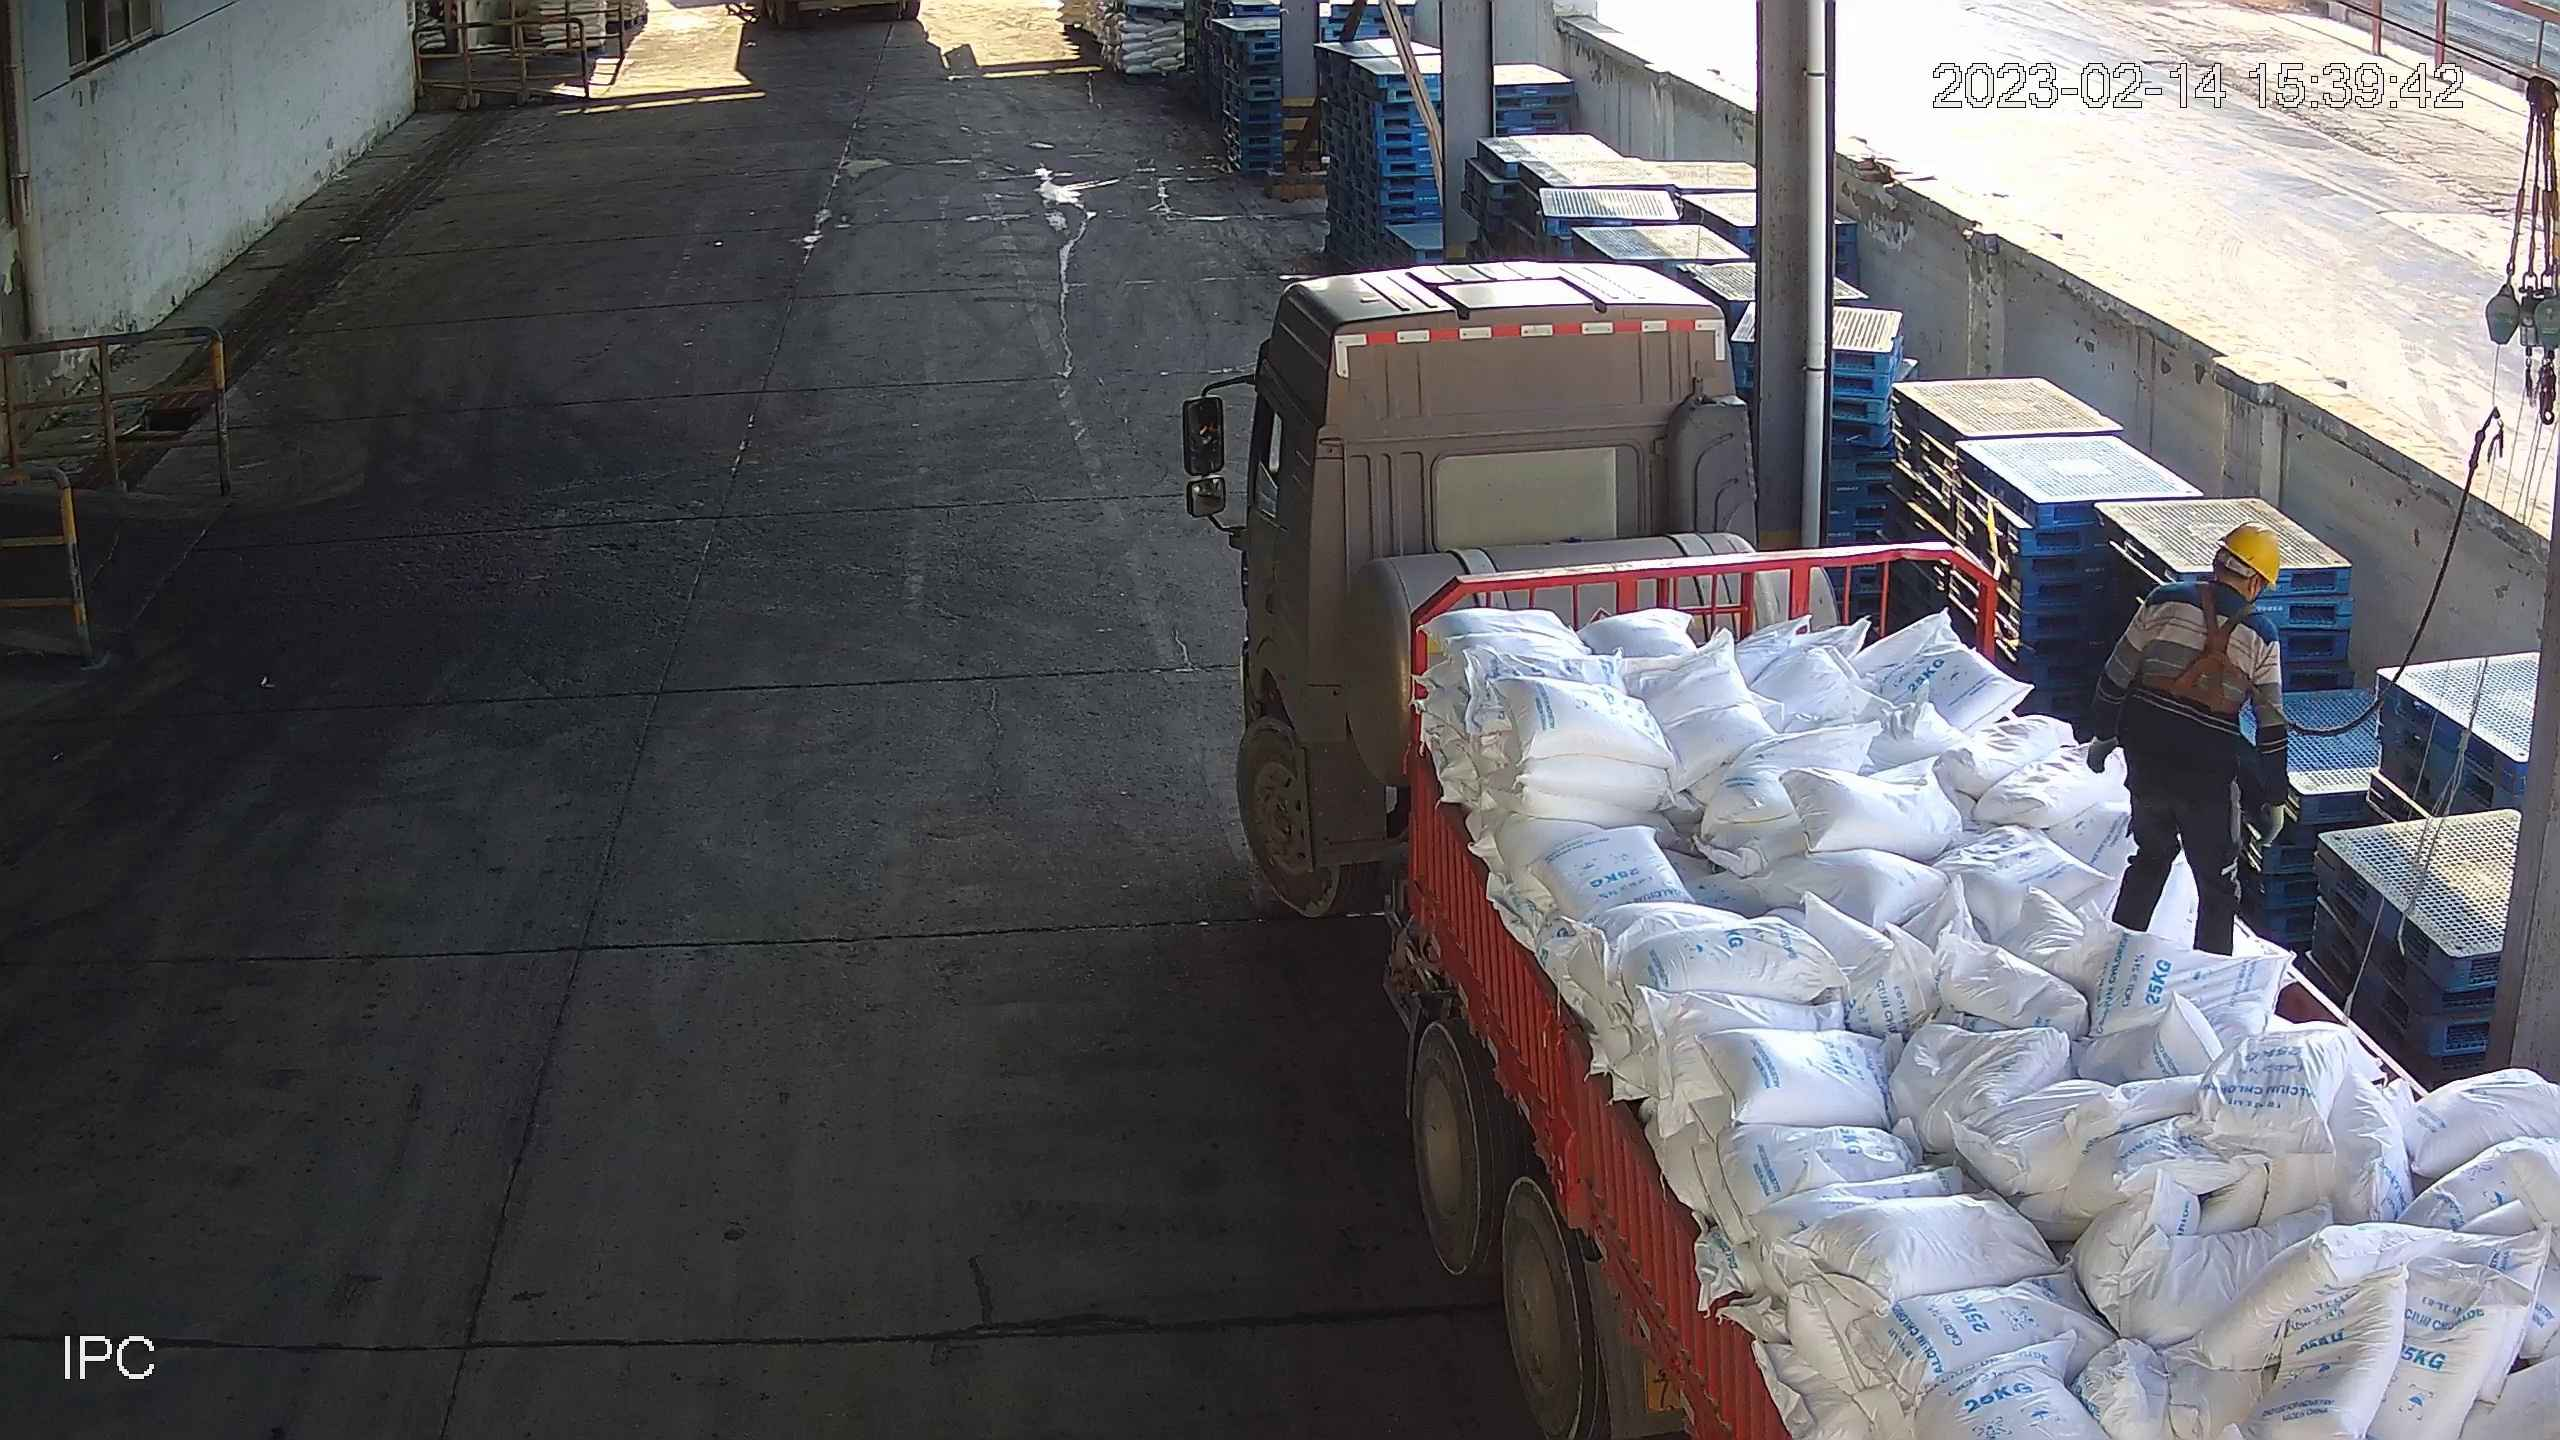belt: (2156, 595, 2267, 697)
head: (2144, 525, 2288, 639)
helmet: (2221, 522, 2288, 590)
people: (2084, 522, 2295, 972)
truck: (1172, 257, 2560, 1440)
